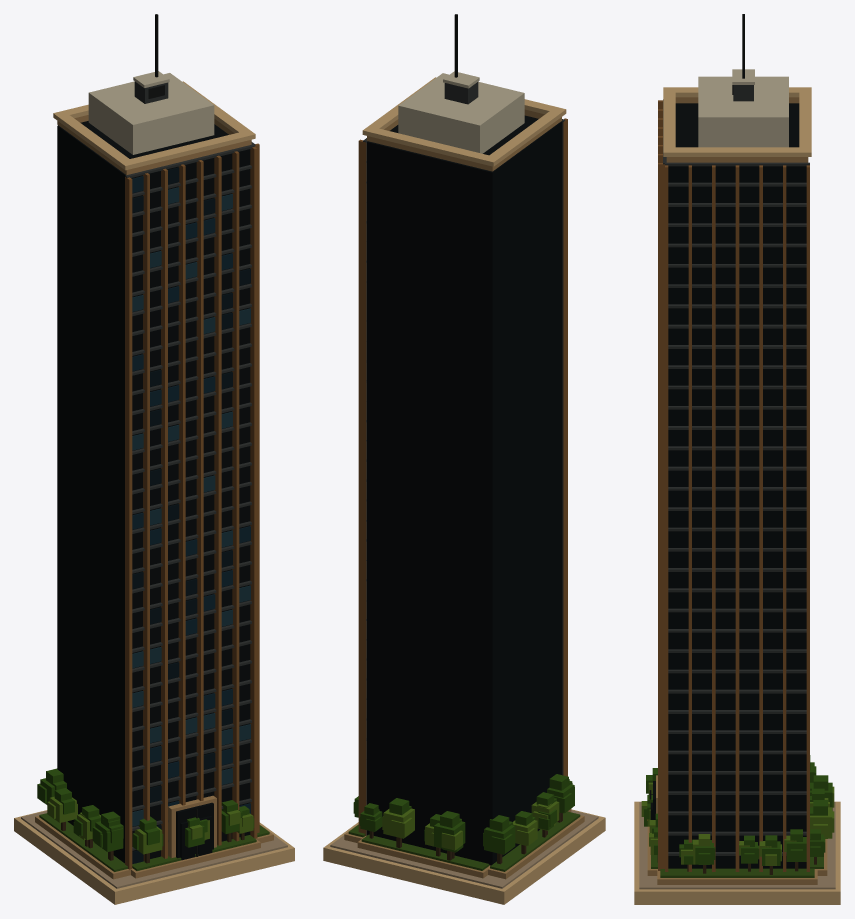
Rendered from SM_Mapa_008.fbx.
3 renders of one model, left to right at view 1: azimuth 30°, elevation 25°; view 2: azimuth 150°, elevation 25°; view 3: azimuth 270°, elevation 25°, orthographic. The views are drawn at different scales.
Visible parts, largest first — view 1: SM_Mapa_008; view 2: SM_Mapa_008; view 3: SM_Mapa_008.
Boxes of the visible parts, bbox=[...] form: SM_Mapa_008: bbox=[14, 14, 294, 904]; SM_Mapa_008: bbox=[323, 14, 605, 904]; SM_Mapa_008: bbox=[634, 14, 840, 904].
Size of the model in its own units: 14 by 13.59 by 61.58.
